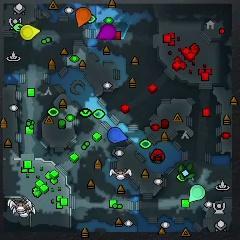p1: (108, 127, 128, 143)
p2: (189, 184, 205, 202)
p3: (97, 25, 116, 40)
p4: (21, 25, 41, 40)
p5: (75, 7, 92, 27)
x4: (179, 162, 193, 179)
